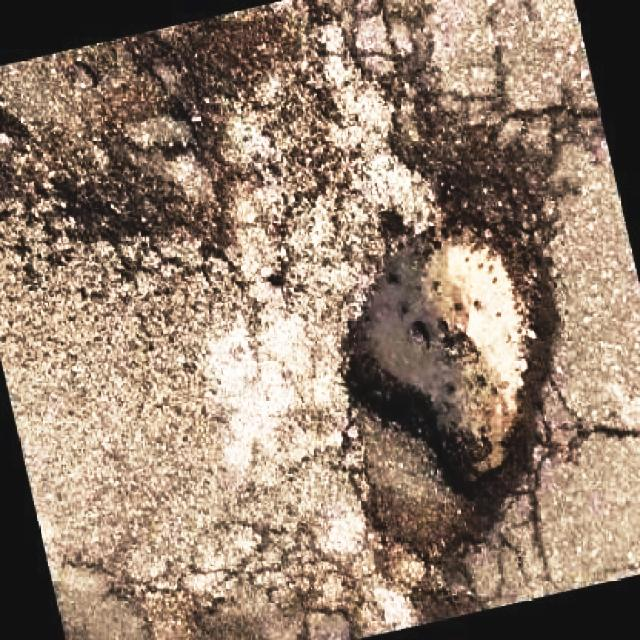pothole: (329, 209, 574, 589), (46, 25, 302, 286)
